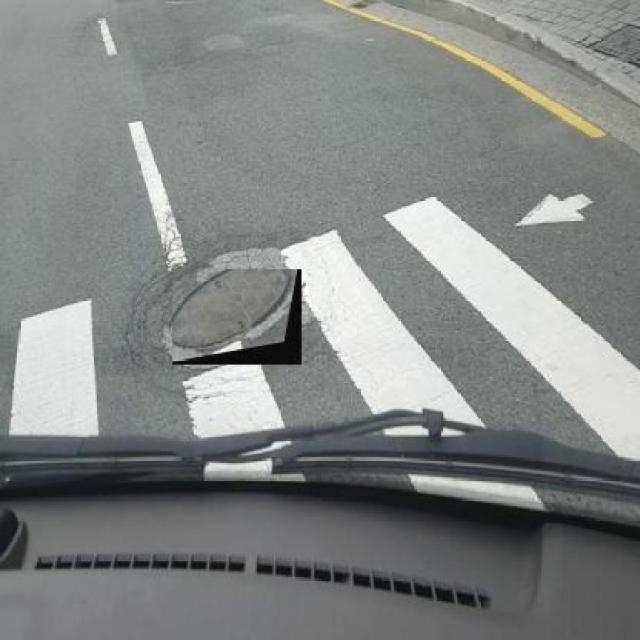Manhole: (172, 269, 302, 365), (583, 17, 640, 72)
Pothole: (346, 0, 376, 11)
